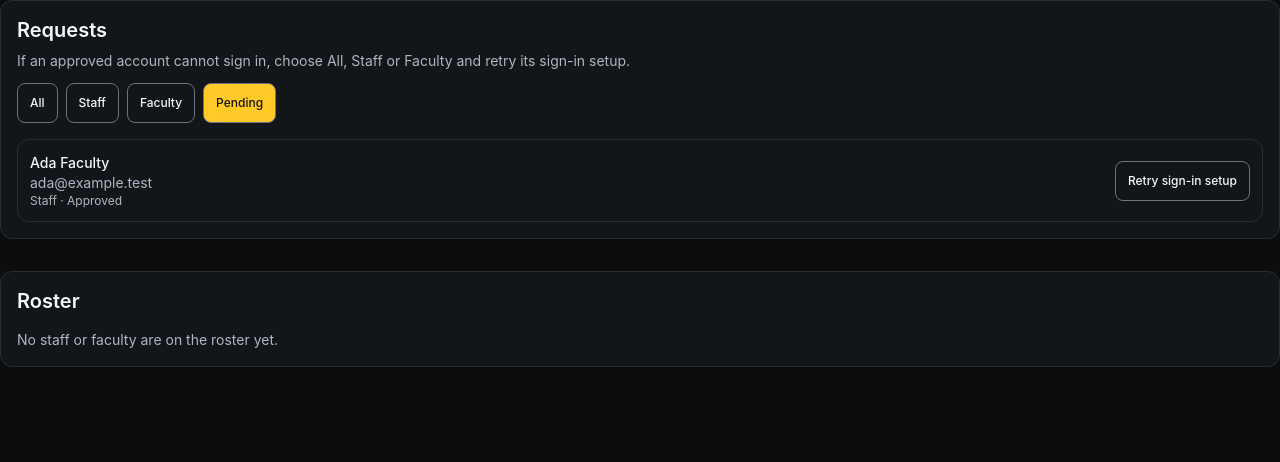
Test: StaffFacultyManager › retries sign-in setup for an approved staff account
Click the button "Retry sign-in setup".
click(1182, 180)  # box [1115,160,1250,200]
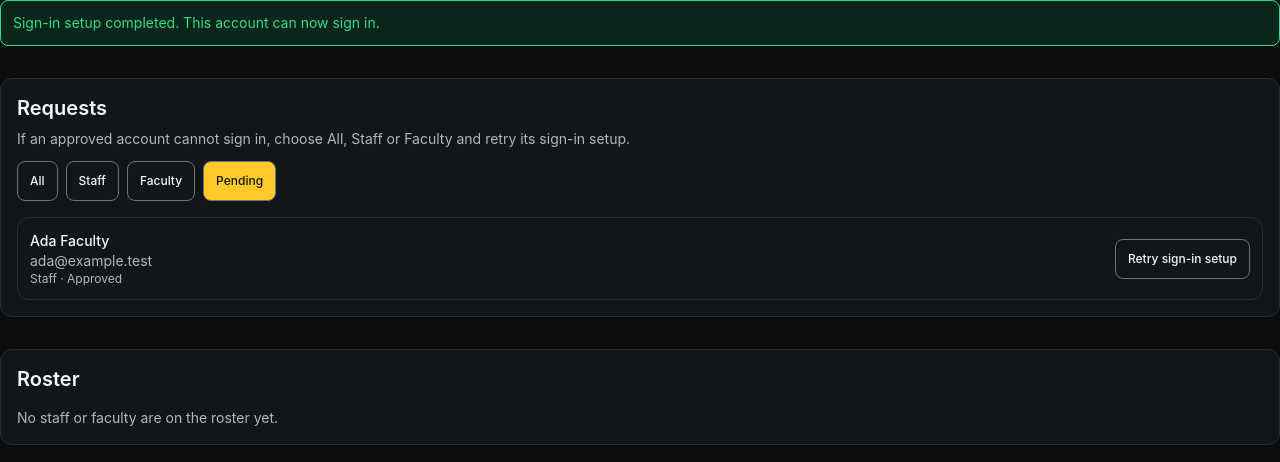
Expected: the text "Sign-in setup completed. This account can now sign in." is shown, [0,0,1279,46]
